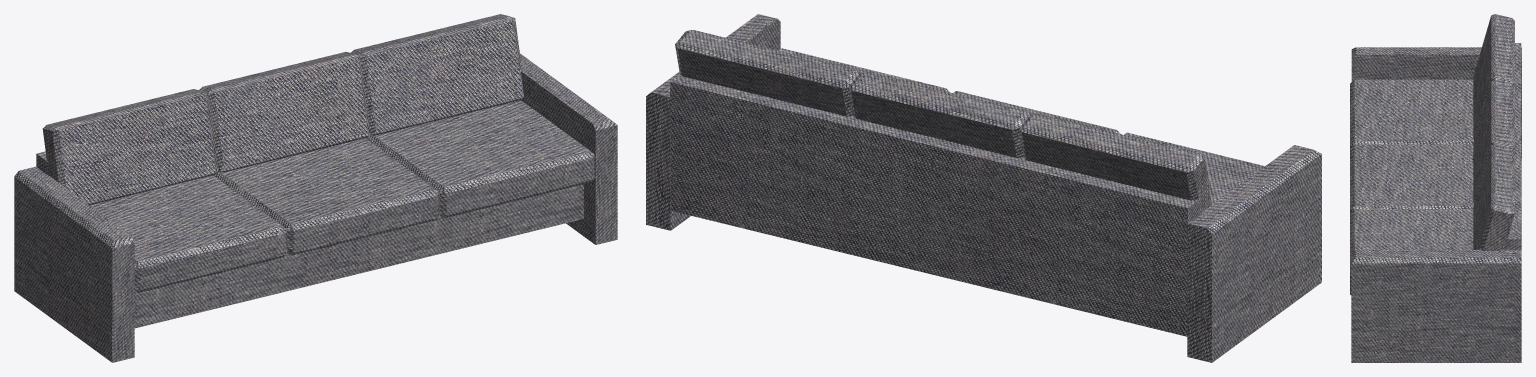
The model's file is sofa.fbx.
3 views of the same model, side by side, from view 1: azimuth 30°, elevation 25°; view 2: azimuth 150°, elevation 25°; view 3: azimuth 270°, elevation 25° (orthographic). The views are drawn at different scales.
Visible parts, largest first — view 1: pCube14; view 2: pCube14; view 3: pCube14.
Boxes of the visible parts, x1,y1,x2,y2 form: pCube14: (14, 14, 617, 362); pCube14: (646, 14, 1321, 362); pCube14: (1350, 14, 1521, 362).
Bounding box in the file's own units: 4.43 × 1.41 × 1.5.
